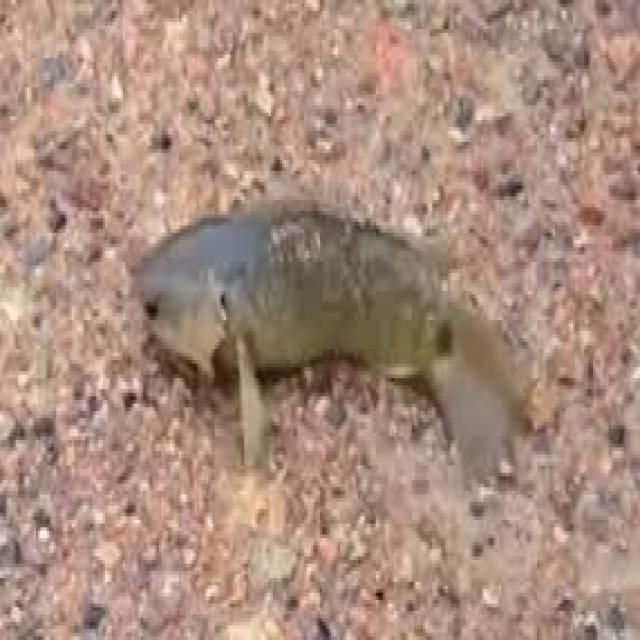Climbing-Perch: (115, 139, 612, 522)
